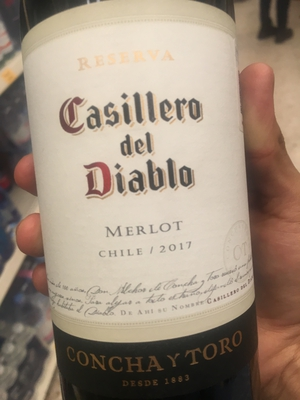casillero del diablo merlot: (17, 6, 267, 393)
